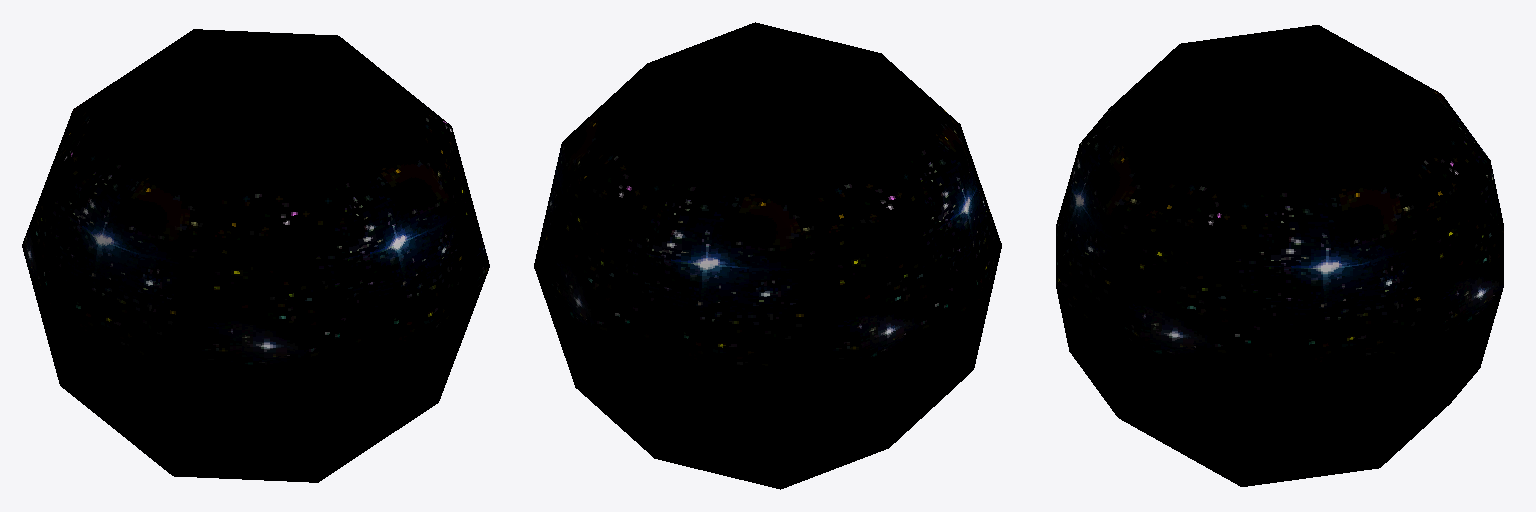
The picture shows the model from 3 angles: view 1: azimuth 30°, elevation 25°; view 2: azimuth 150°, elevation 25°; view 3: azimuth 270°, elevation 25°; orthographic projection.
Bounding box in the file's own units: 2000 × 2000 × 1902.
1 materials, 1 textured.